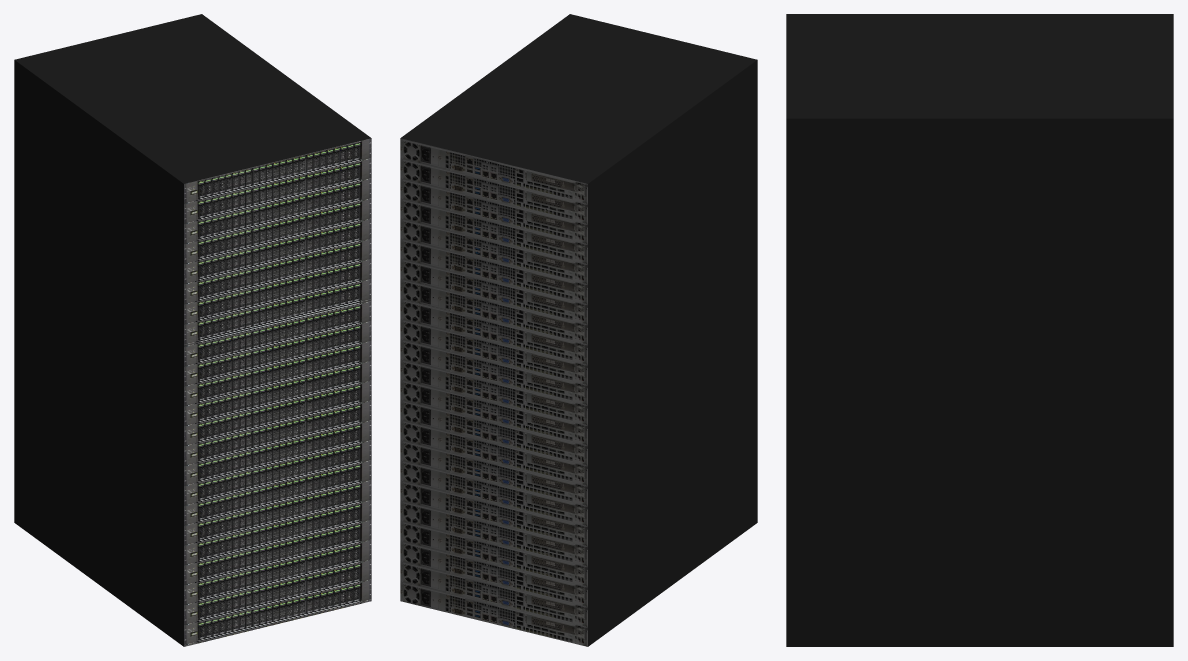
Rendered from SDR23.fbx.
3 renders of one model, left to right at view 1: azimuth 30°, elevation 25°; view 2: azimuth 150°, elevation 25°; view 3: azimuth 270°, elevation 25°, orthographic. The views are drawn at different scales.
Parts seen in each view (by area): view 1: SDR23; view 2: SDR23; view 3: SDR23.
Part boxes in pixels (x1,y1,x2,y2): SDR23: (14, 14, 371, 646); SDR23: (400, 14, 757, 646); SDR23: (786, 14, 1173, 646).
Bounding box in the file's own units: 434 × 1024 × 680.
Materials: 3 (2 with a texture image).
